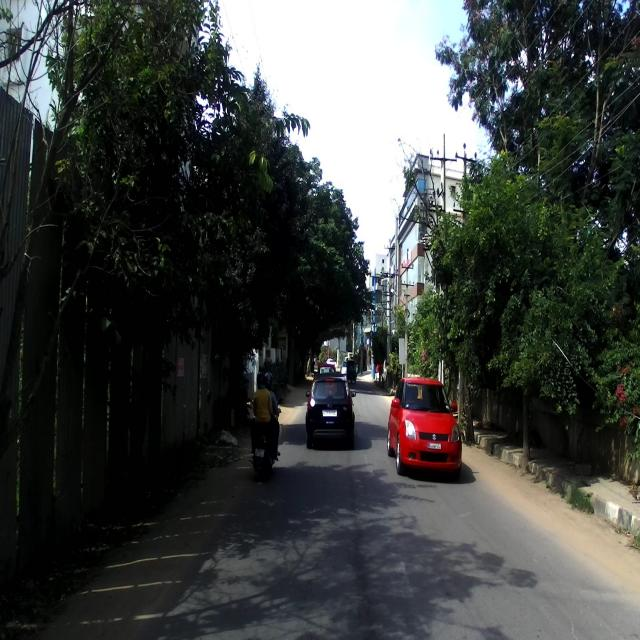car: (388, 375, 465, 475), (303, 364, 357, 453)
scooter: (250, 398, 284, 474)
